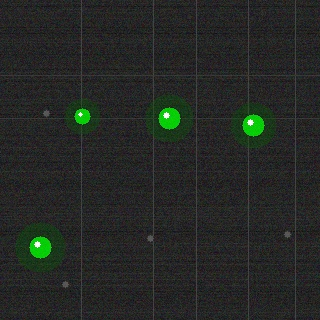green_normal: (156, 105, 182, 131), (240, 112, 266, 138), (27, 234, 53, 260), (72, 106, 92, 126)
